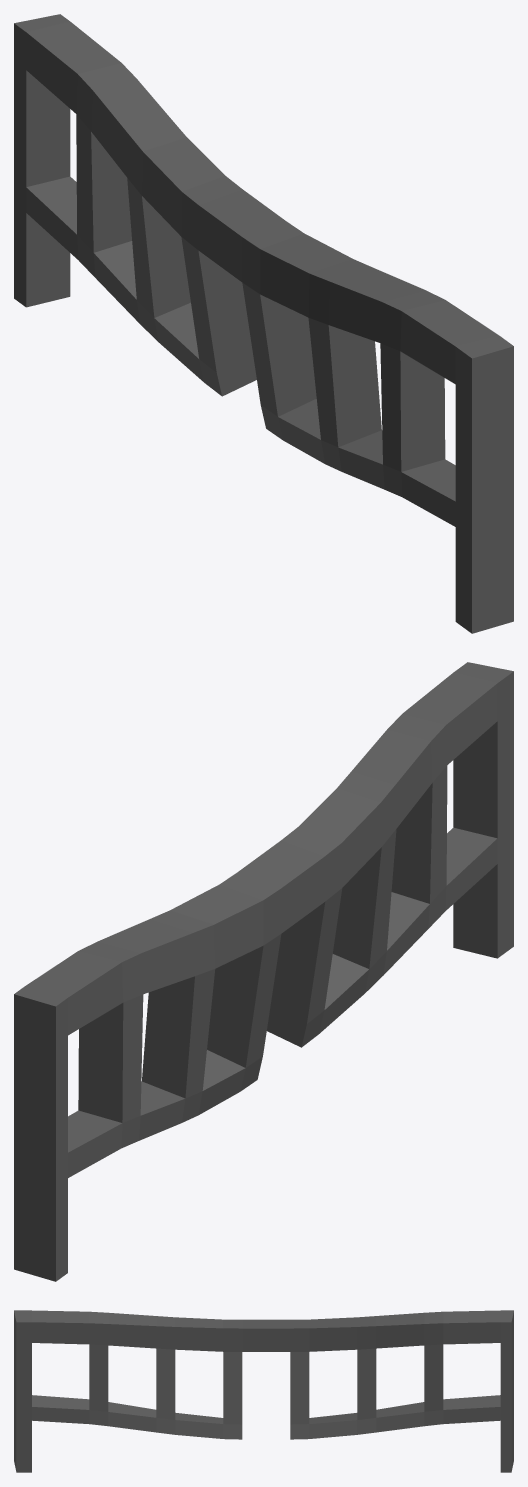
The model's file is Barriere.glb.
3 views of the same model, one above another, from view 1: azimuth 30°, elevation 25°; view 2: azimuth 150°, elevation 25°; view 3: azimuth 270°, elevation 25° (orthographic). The views are drawn at different scales.
Visible parts, largest first — view 1: Barriere; view 2: Barriere; view 3: Barriere.
Boxes of the visible parts, left/top/right/bottom form: Barriere: left=14, top=14, right=513, bottom=633; Barriere: left=14, top=662, right=513, bottom=1281; Barriere: left=14, top=1310, right=513, bottom=1472.
Bounding box in the file's own units: 0.0403 × 0.1588 × 0.4788.
1 material, 1 textured.
